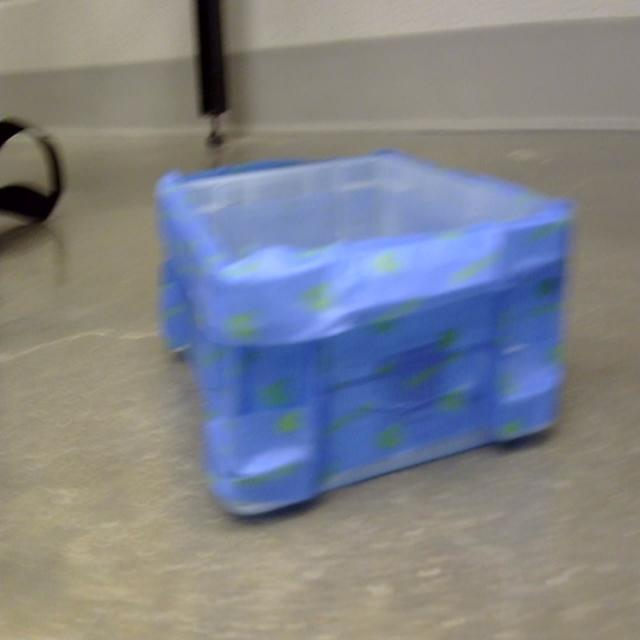bucket: (154, 151, 577, 522)
